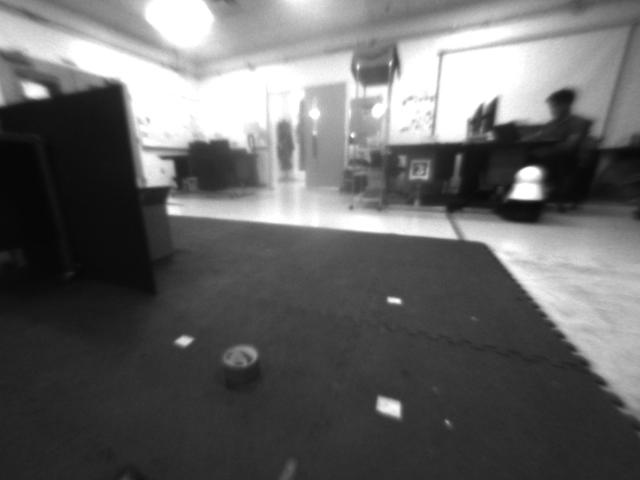dogtoy: (208, 340, 263, 380)
